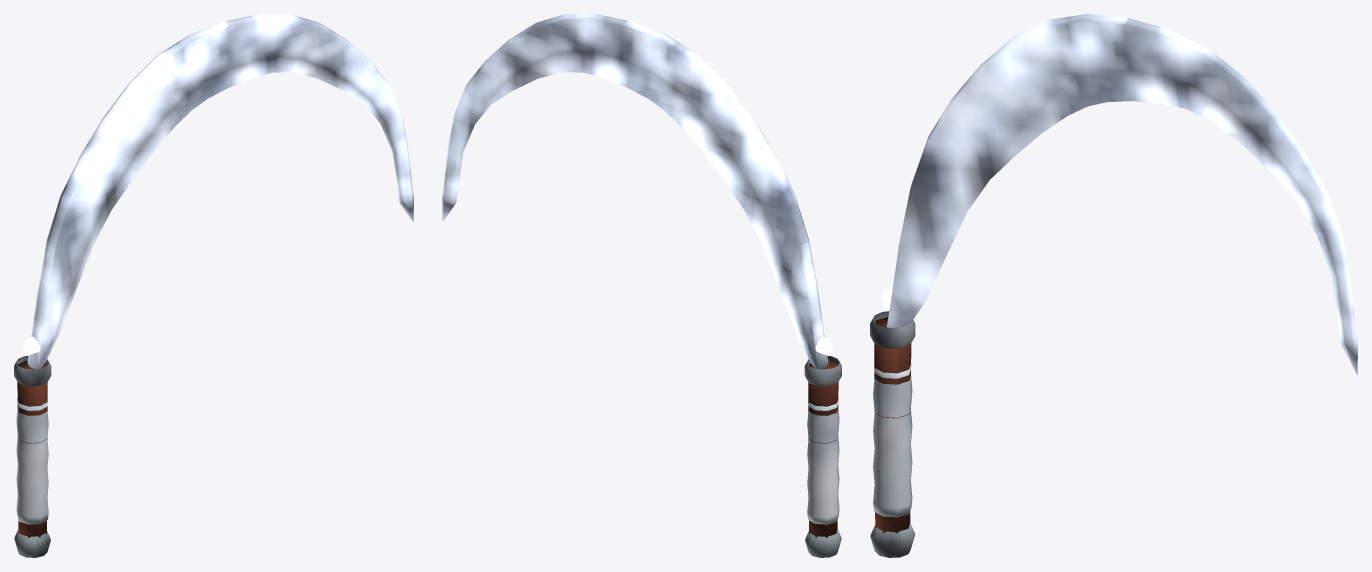
Rendered from Moonsickle.fbx.
The picture shows the model from 3 angles, left to right: view 1: azimuth 30°, elevation 25°; view 2: azimuth 150°, elevation 25°; view 3: azimuth 330°, elevation 25°; orthographic projection. The views are drawn at different scales.
Visible parts, largest first — view 1: Moonsickle; view 2: Moonsickle; view 3: Moonsickle.
Part boxes in pixels (x1=…): Moonsickle: x1=14, y1=14, x2=413, y2=557; Moonsickle: x1=442, y1=14, x2=841, y2=557; Moonsickle: x1=870, y1=14, x2=1357, y2=557.
Size of the model in its own units: 0.494 by 0.5796 by 0.04.
